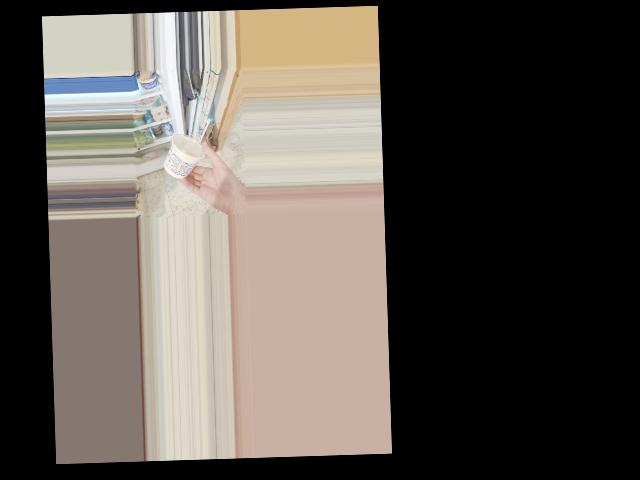cotage: (164, 133, 208, 175)
